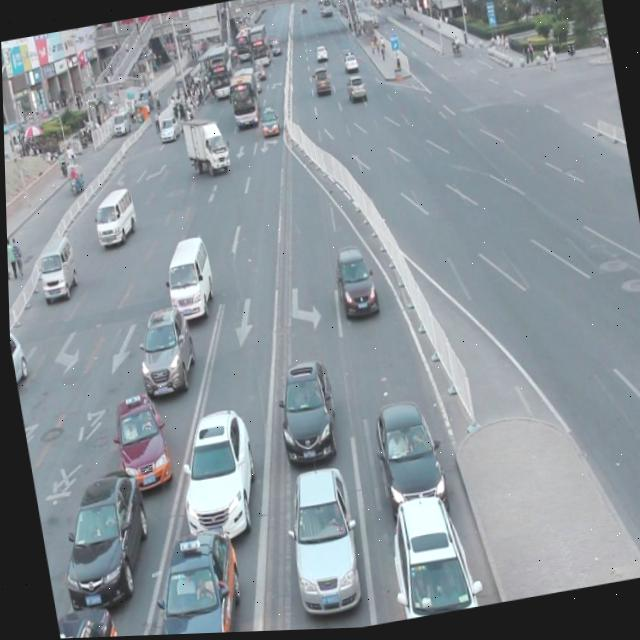car: (45, 463, 158, 616), (274, 460, 364, 621), (166, 403, 263, 548), (132, 520, 247, 637), (378, 488, 475, 624), (365, 395, 446, 522), (266, 356, 341, 471), (106, 390, 172, 497), (128, 302, 198, 400), (328, 244, 378, 324), (52, 599, 119, 639)
truck: (158, 235, 217, 325), (90, 187, 138, 250), (34, 234, 79, 301)
